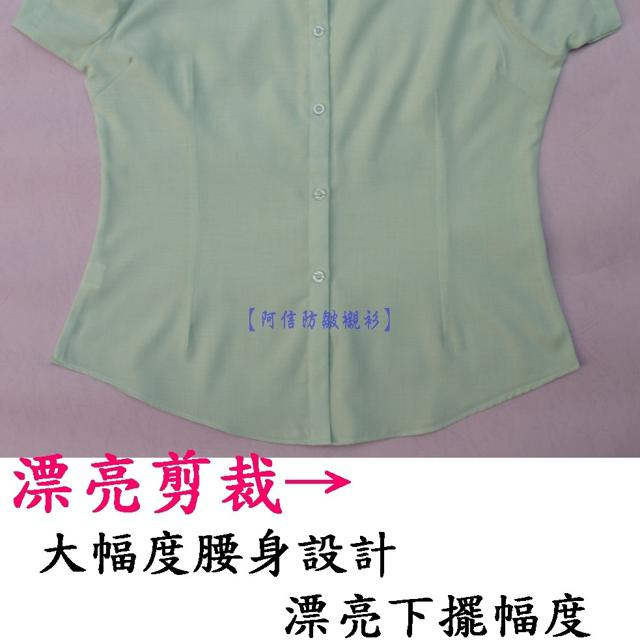Tops: (17, 1, 614, 444)
